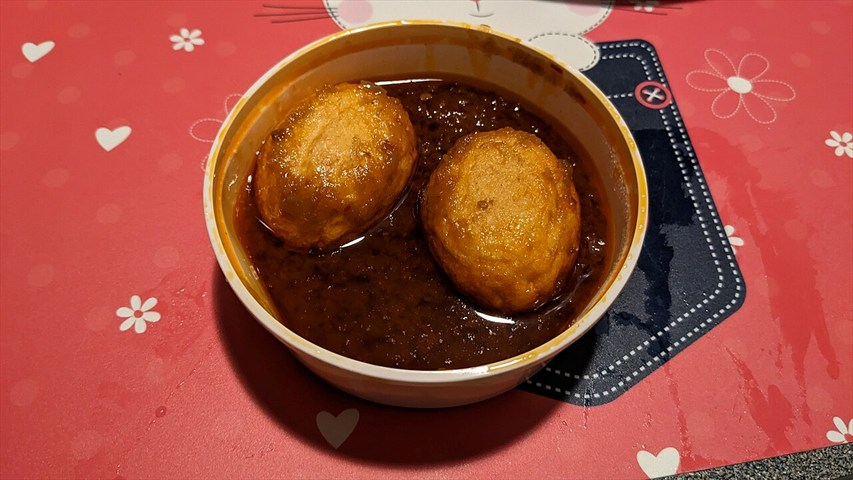Telur Balado: (183, 27, 712, 405)
